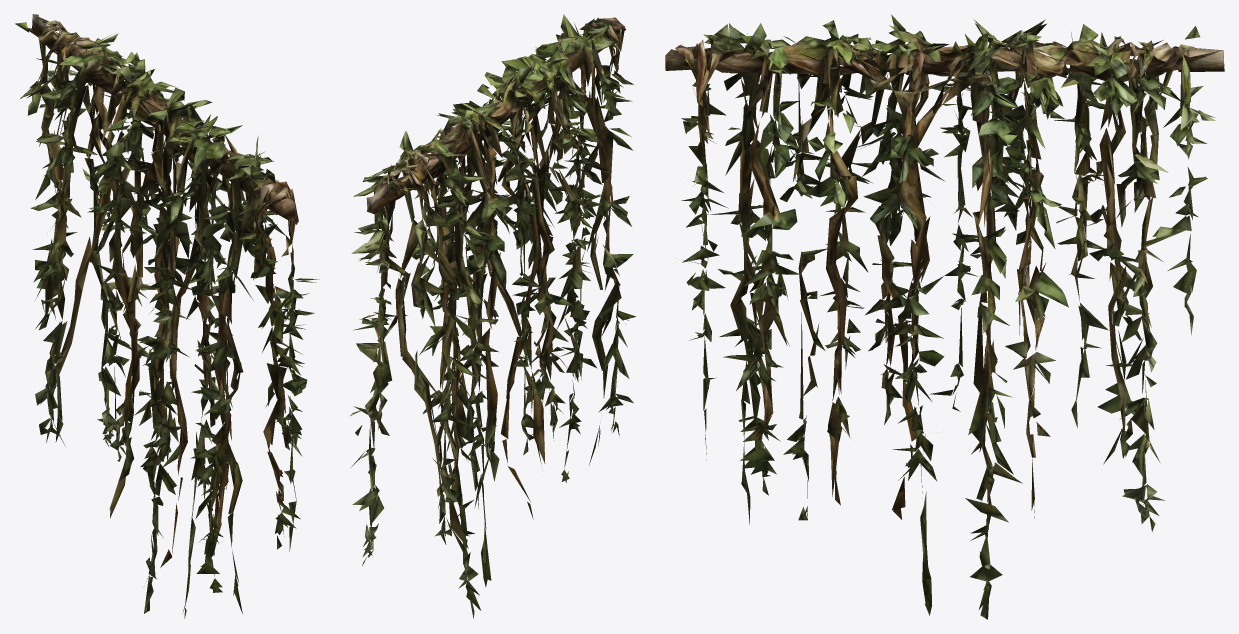
The model's file is hanging_vines_LOD1.fbx.
3 views of the same model, side by side, from view 1: azimuth 30°, elevation 25°; view 2: azimuth 150°, elevation 25°; view 3: azimuth 270°, elevation 25° (orthographic). The views are drawn at different scales.
Parts seen in each view (by area): view 1: hanging_vines.001; view 2: hanging_vines.001; view 3: hanging_vines.001.
Part boxes in pixels (bbox=[...]): hanging_vines.001: bbox=[15, 14, 319, 618]; hanging_vines.001: bbox=[350, 14, 635, 618]; hanging_vines.001: bbox=[665, 14, 1224, 619].
Bounding box in the file's own units: 0.9276 × 4 × 3.36.
1 material, 1 textured.
